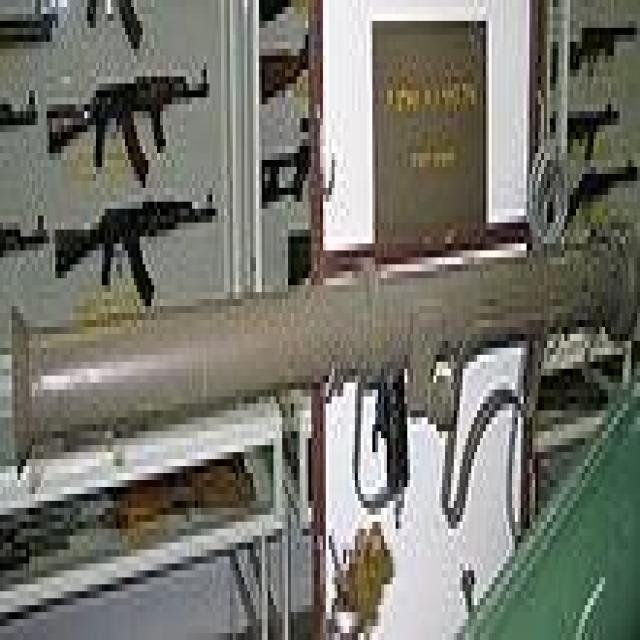weapon: (10, 282, 636, 504), (38, 62, 238, 188), (49, 188, 233, 313), (544, 10, 640, 94), (544, 163, 640, 247), (536, 97, 632, 160)
